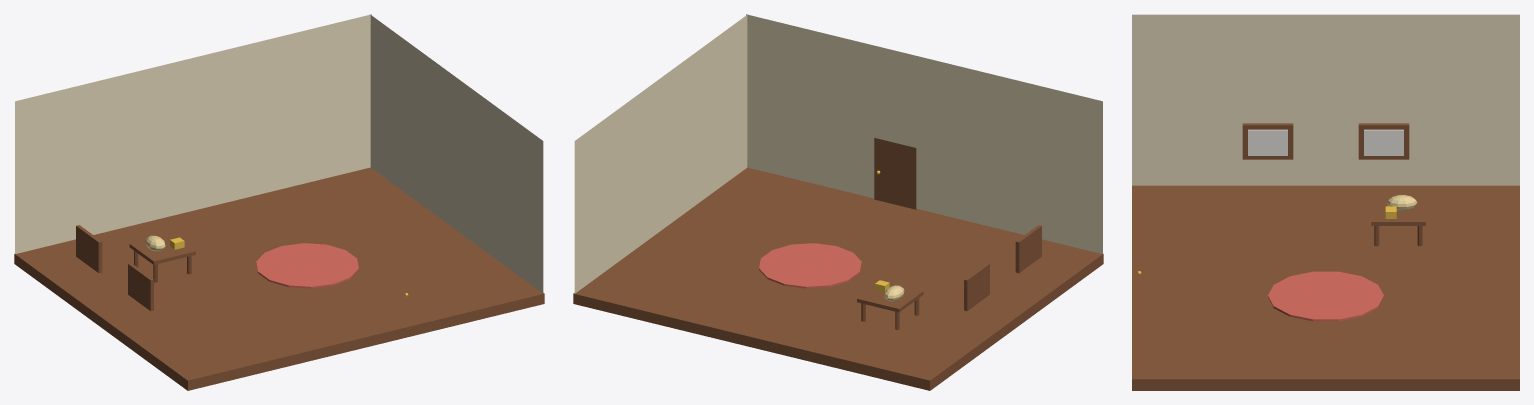
The model's file is room_house_a.glb.
3 renders of one model, left to right at view 1: azimuth 30°, elevation 25°; view 2: azimuth 150°, elevation 25°; view 3: azimuth 270°, elevation 25°, orthographic. The views are drawn at different scales.
Parts seen in each view (by area): view 1: RoomA, Frame1, Frame2; view 2: RoomA, Frame2, Frame1; view 3: RoomA, Frame1, Frame2.
Part boxes in pixels (x1,y1,x2,y2): RoomA: (14,14,544,390); Frame1: (76,225,102,273); Frame2: (128,263,153,310); RoomA: (573,14,1103,390); Frame2: (1015,225,1041,273); Frame1: (964,263,989,310); RoomA: (1132,14,1519,390); Frame1: (1358,123,1409,159); Frame2: (1242,123,1293,159).
Bounding box in the file's own units: 12.7 × 5.55 × 10.7.
